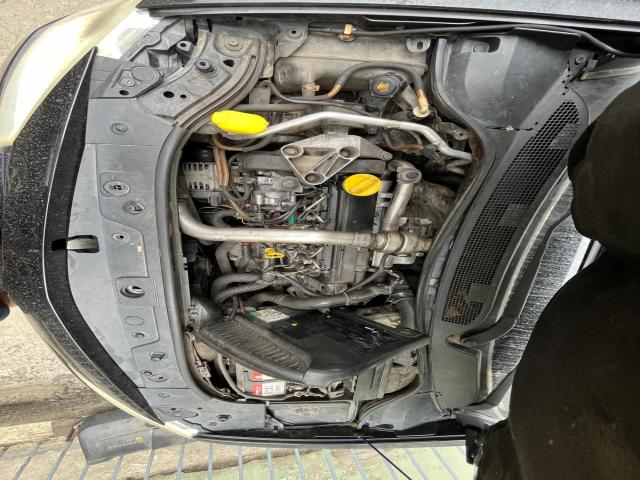accumulator: (235, 364, 287, 397)
alternator: (182, 161, 223, 206)
antifreeze_tank: (273, 33, 430, 92), (343, 68, 412, 98)
fuse_box: (268, 400, 357, 425)
high_pressure_pump: (247, 172, 297, 213)
